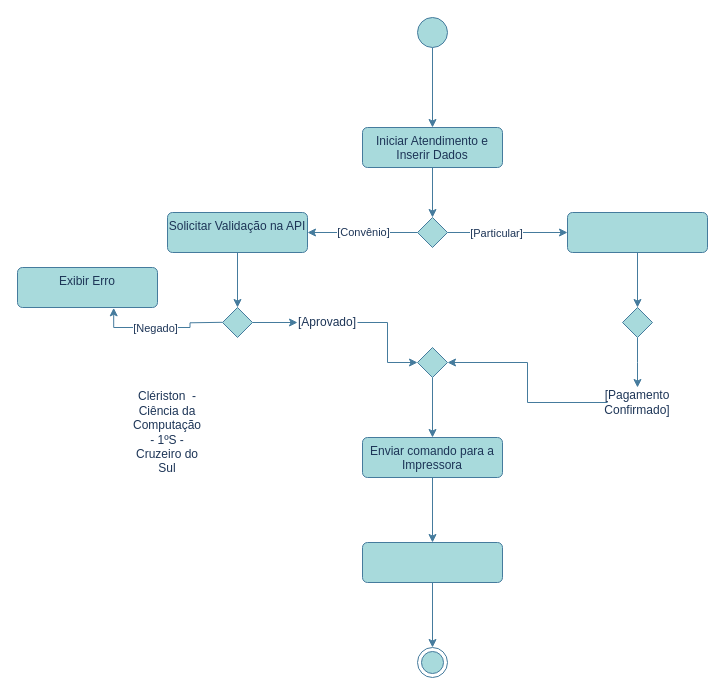
Image size: 725x695. Some labels were removed from this diagram. Here are the shapes that lost their labels. From the top down, the centre of each, then its label:
[637,232]: Calcular Valor e Cobrar
[432,562]: Imprimir Etiquetas e Atualizar Status
